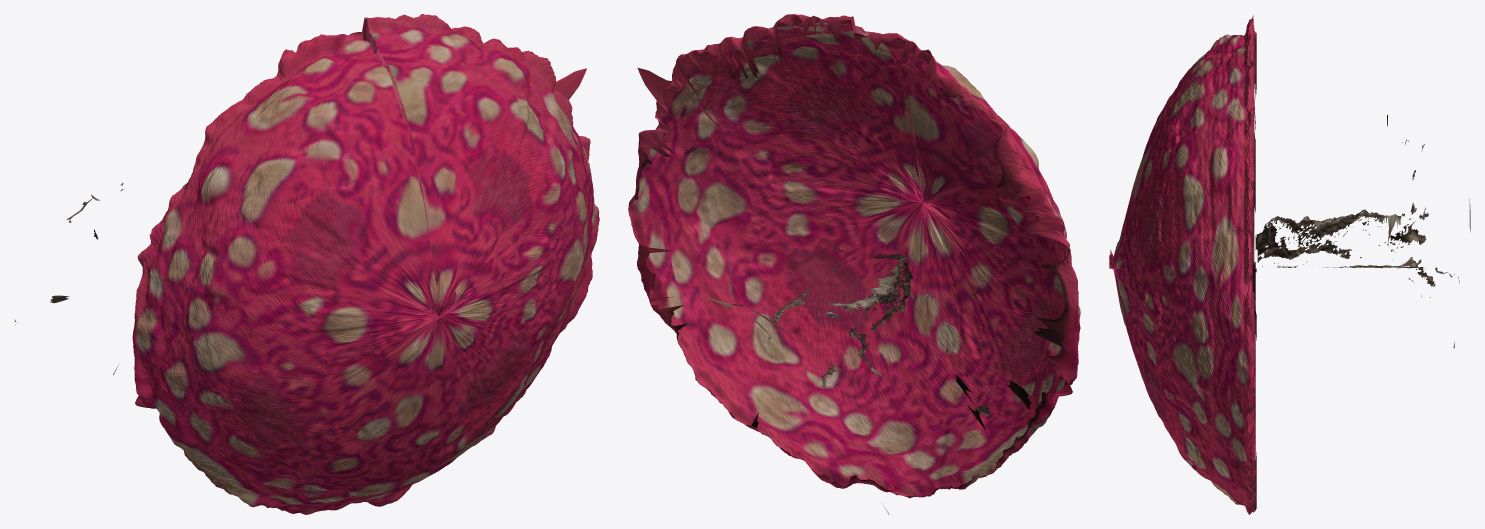
The picture shows the model from 3 angles, left to right: view 1: azimuth 30°, elevation 25°; view 2: azimuth 150°, elevation 25°; view 3: azimuth 270°, elevation 25°; orthographic projection. The views are drawn at different scales.
Parts seen in each view (by area): view 1: geometry_0; view 2: geometry_0; view 3: geometry_0.
Boxes of the visible parts, <box> form: geometry_0: <box>14,14,599,514</box>; geometry_0: <box>628,14,1080,514</box>; geometry_0: <box>1109,15,1470,514</box>.
Bounding box in the file's own units: 1.46 × 1.39 × 0.9863.
1 material, 1 textured.
